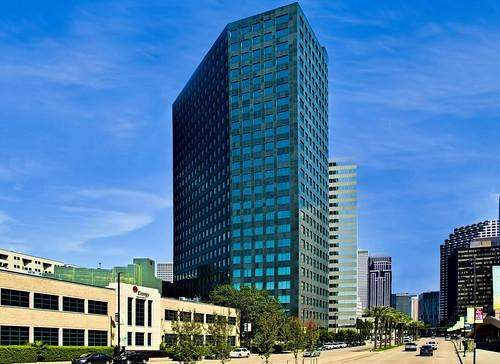building: (166, 2, 332, 350)
